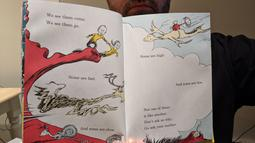text block: (141, 105, 178, 131), (43, 9, 86, 31), (78, 123, 116, 133), (66, 71, 99, 81), (174, 78, 206, 88), (138, 53, 164, 61)
